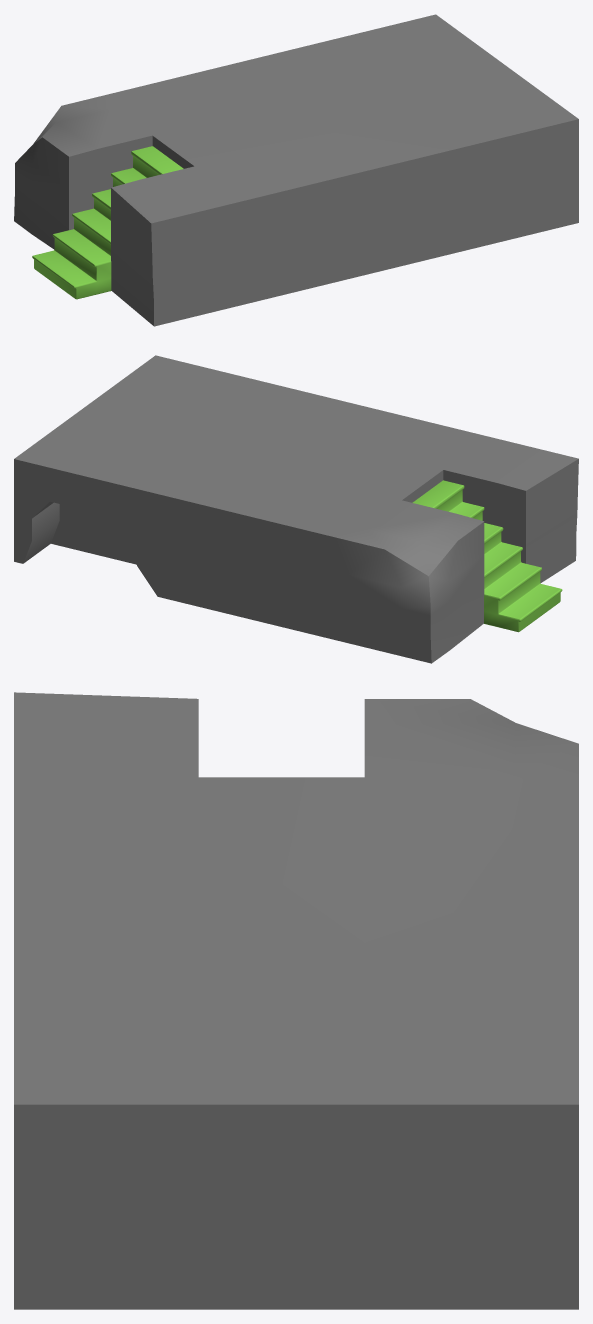
File: platform_low.fbx
The picture shows the model from 3 angles, top to bottom: view 1: azimuth 30°, elevation 25°; view 2: azimuth 150°, elevation 25°; view 3: azimuth 270°, elevation 25°; orthographic projection. The views are drawn at different scales.
Parts seen in each view (by area): view 1: Platform_low; view 2: Platform_low; view 3: Platform_low.
Boxes of the visible parts, box(x1,y1,x2,y2) form: Platform_low: box(14, 14, 578, 326); Platform_low: box(14, 355, 578, 663); Platform_low: box(14, 692, 578, 1309).
Size of the model in its own units: 408 by 89.22 by 221.
